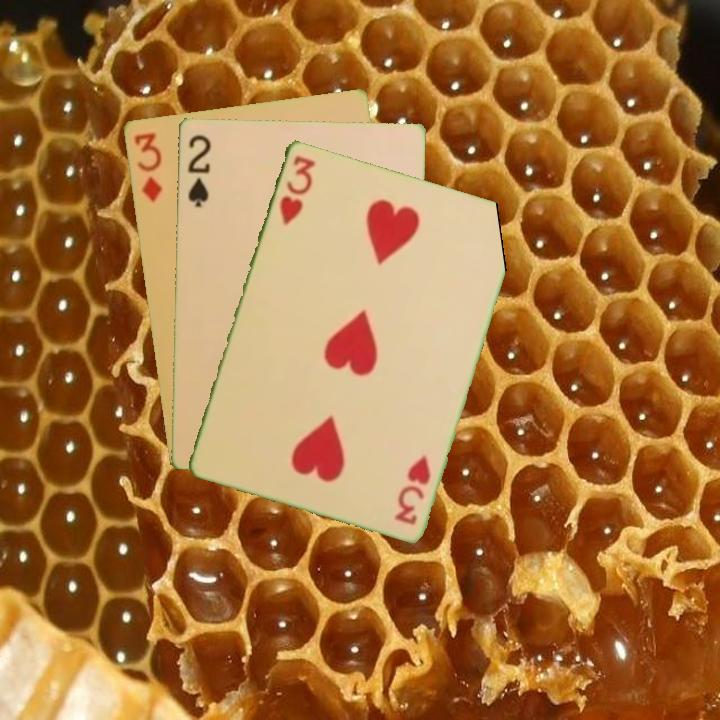2s: (184, 131, 213, 210)
3d: (130, 129, 165, 204)
3h: (390, 451, 434, 527), (275, 152, 318, 228)
